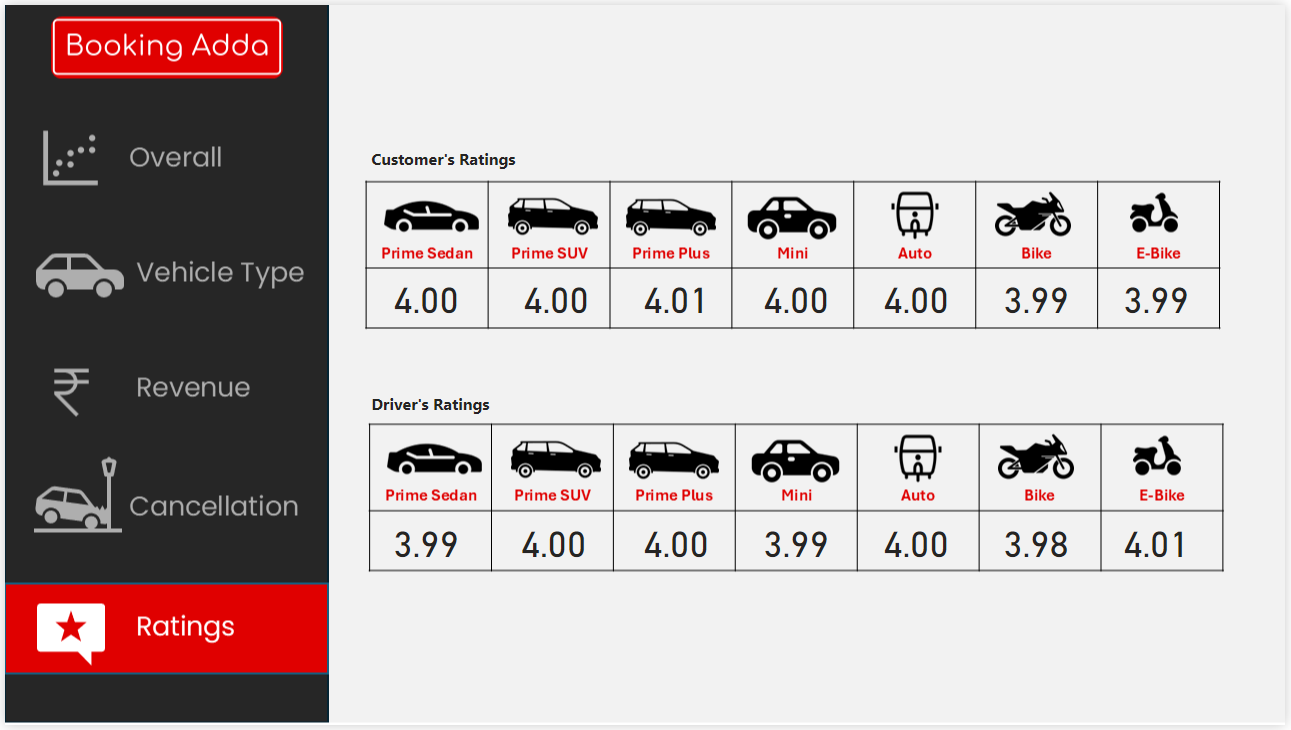

Layout of this report page (visuals, bound fields, positions):
{"tool":"powerbi","page":{"name":"Ratings","canvas":[1280,720],"ordinal":4},"visuals":[{"type":"actionButton","box":[0,223.2,322.1,90.5],"z":0},{"type":"actionButton","box":[1.2,337.8,322.1,90.5],"z":1000},{"type":"actionButton","box":[1.2,450,322.1,90.5],"z":2000},{"type":"actionButton","box":[1.2,111,322.1,90.5],"z":3000},{"type":"textbox","box":[361.2,137.5,187.5,37.5],"z":4000},{"type":"textbox","box":[361.2,382.5,187.5,37.5],"z":5000},{"type":"card","fields":{"Values":["Avg(Table1.Customer_Rating)"]},"box":[361.2,268.8,120,47],"z":6000},{"type":"card","fields":{"Values":["Avg(Table1.Customer_Rating)"]},"box":[491.2,268.8,120,47.5],"z":7000},{"type":"card","fields":{"Values":["Avg(Table1.Customer_Rating)"]},"box":[611.2,268.8,120,47.5],"z":8000},{"type":"card","fields":{"Values":["Avg(Table1.Customer_Rating)"]},"box":[731.2,268.8,120,47.5],"z":9000},{"type":"card","fields":{"Values":["Avg(Table1.Customer_Rating)"]},"box":[851.2,268.8,120,47.5],"z":10000},{"type":"card","fields":{"Values":["Avg(Table1.Customer_Rating)"]},"box":[971.2,268.8,120,47.5],"z":11000},{"type":"card","fields":{"Values":["Avg(Table1.Customer_Rating)"]},"box":[1091.2,268.8,120,47.5],"z":12000},{"type":"card","fields":{"Values":["Avg(Table1.Driver_Ratings)"]},"box":[361.2,512.5,120,47.5],"z":13000},{"type":"card","fields":{"Values":["Avg(Table1.Driver_Ratings)"]},"box":[488.8,512.5,120,47.5],"z":14000},{"type":"card","fields":{"Values":["Avg(Table1.Driver_Ratings)"]},"box":[611.2,512.5,120,47.5],"z":15000},{"type":"card","fields":{"Values":["Avg(Table1.Driver_Ratings)"]},"box":[731.2,512.5,120,47.5],"z":16000},{"type":"card","fields":{"Values":["Avg(Table1.Driver_Ratings)"]},"box":[851.2,512.5,120,47.5],"z":17000},{"type":"card","fields":{"Values":["Avg(Table1.Driver_Ratings)"]},"box":[971.2,512.5,120,47.5],"z":18000},{"type":"card","fields":{"Values":["Avg(Table1.Driver_Ratings)"]},"box":[1091.2,512.5,120,47.5],"z":19000}]}

Visuals, with their boxes on the page's 1280x720 design canvas (x1, y1, x2, y2). These are canvas units, not pixel positions in the 1291x730 screenshot, which may show the page scaled, cropped or inside an application window:
actionButton: 0,223,322,314
actionButton: 1,338,323,428
actionButton: 1,450,323,540
actionButton: 1,111,323,202
textbox: 361,138,549,175
textbox: 361,382,549,420
card - Avg(Table1.Customer_Rating): 361,269,481,316
card - Avg(Table1.Customer_Rating): 491,269,611,316
card - Avg(Table1.Customer_Rating): 611,269,731,316
card - Avg(Table1.Customer_Rating): 731,269,851,316
card - Avg(Table1.Customer_Rating): 851,269,971,316
card - Avg(Table1.Customer_Rating): 971,269,1091,316
card - Avg(Table1.Customer_Rating): 1091,269,1211,316
card - Avg(Table1.Driver_Ratings): 361,512,481,560
card - Avg(Table1.Driver_Ratings): 489,512,609,560
card - Avg(Table1.Driver_Ratings): 611,512,731,560
card - Avg(Table1.Driver_Ratings): 731,512,851,560
card - Avg(Table1.Driver_Ratings): 851,512,971,560
card - Avg(Table1.Driver_Ratings): 971,512,1091,560
card - Avg(Table1.Driver_Ratings): 1091,512,1211,560
